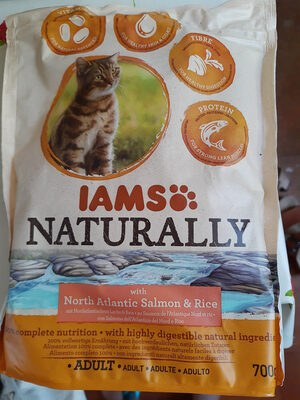IAMS Naturally cat adult zalm & rijst: (15, 20, 285, 380)
